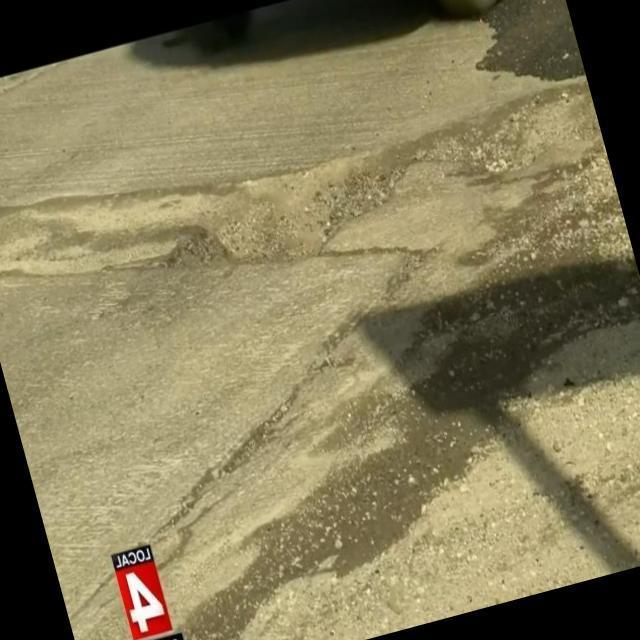Pothole: (184, 171, 374, 264)
